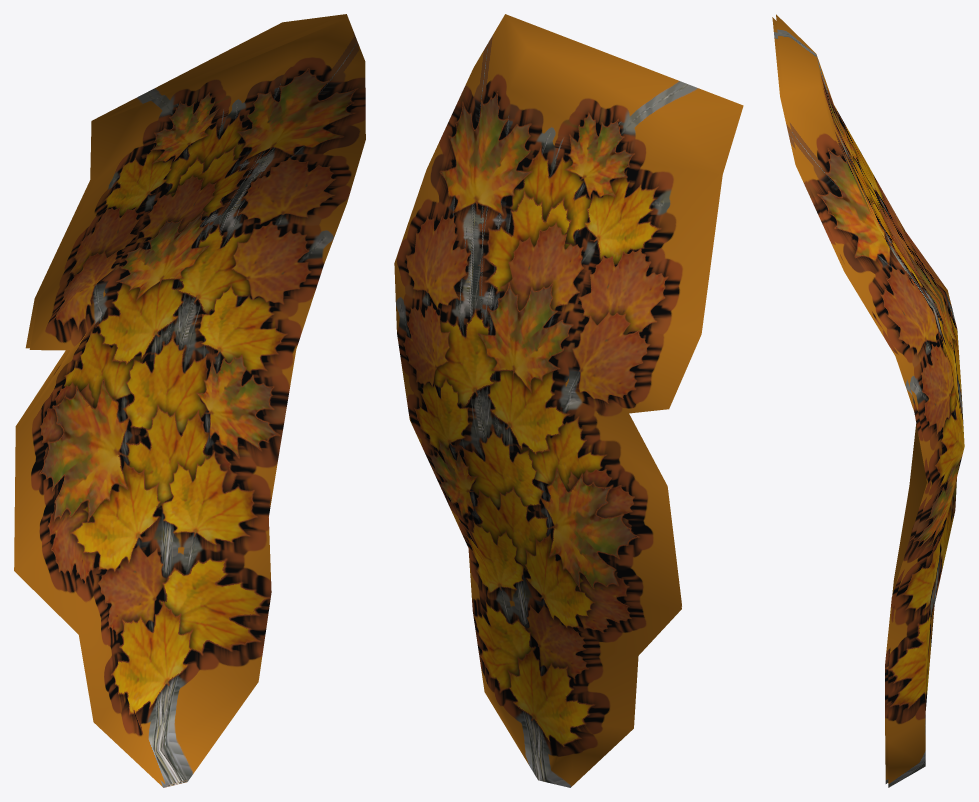
File: branch_3.fbx
3 renders of one model, left to right at view 1: azimuth 30°, elevation 25°; view 2: azimuth 150°, elevation 25°; view 3: azimuth 270°, elevation 25°, orthographic. The views are drawn at different scales.
Parts seen in each view (by area): view 1: branch_3; view 2: branch_3; view 3: branch_3.
Boxes of the visible parts, x1,y1,x2,y2 form: branch_3: (14, 14, 365, 787); branch_3: (394, 14, 743, 787); branch_3: (772, 14, 964, 787).
Size of the model in its own units: 1.75 by 4.02 by 0.945.
